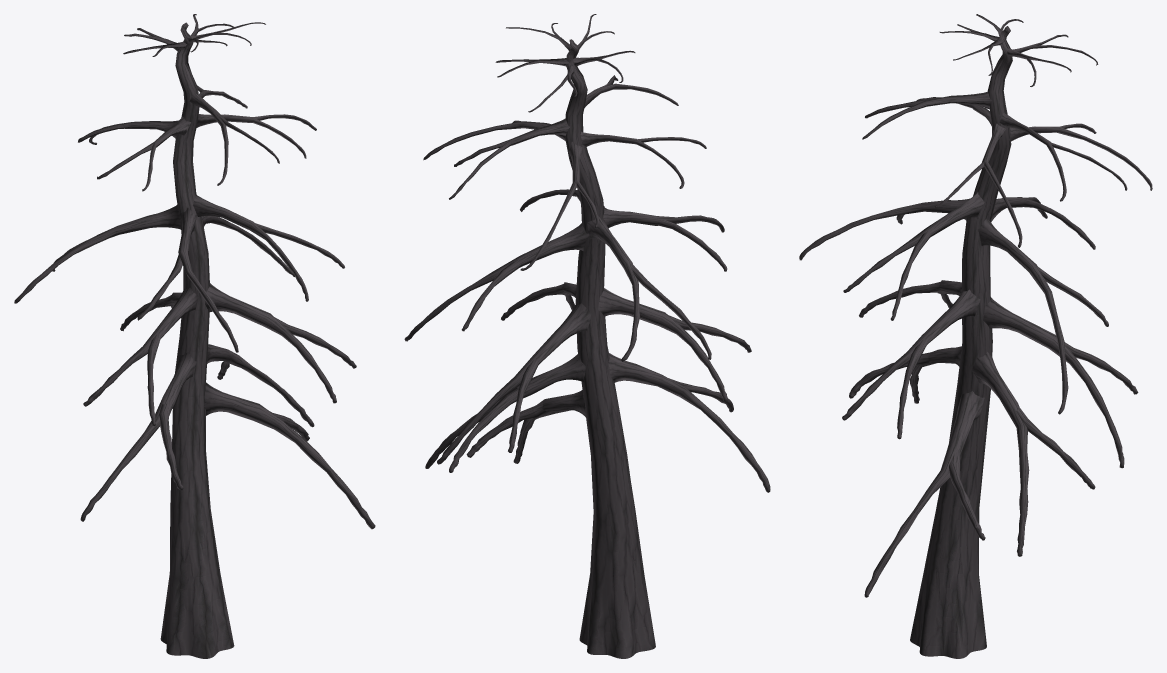
File: DeadTree_5.gltf
The picture shows the model from 3 angles, left to right: view 1: azimuth 30°, elevation 25°; view 2: azimuth 150°, elevation 25°; view 3: azimuth 270°, elevation 25°; orthographic projection. The views are drawn at different scales.
Visible parts, largest first — view 1: DeadTree_5; view 2: DeadTree_5; view 3: DeadTree_5.
Part boxes in pixels (x1,y1,x2,y2): DeadTree_5: (14, 14, 375, 658); DeadTree_5: (404, 14, 770, 658); DeadTree_5: (799, 14, 1152, 658).
Bounding box in the file's own units: 8.36 × 16.44 × 8.41.
1 material, 1 textured.
